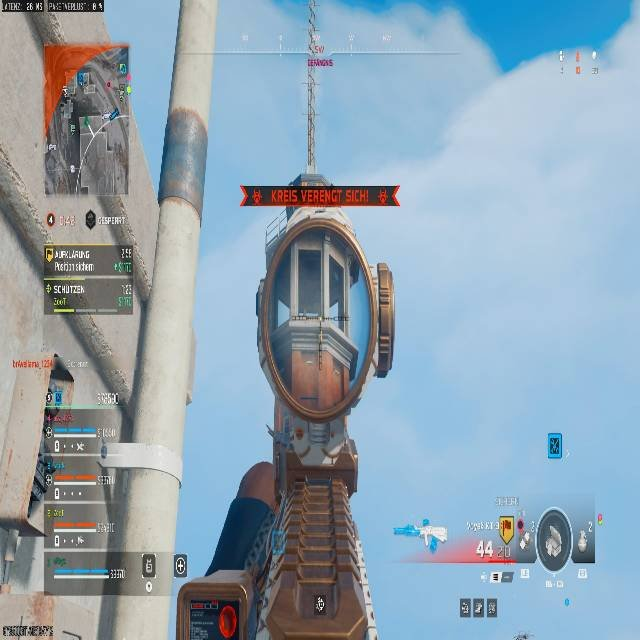head: (255, 198, 392, 420)
player: (190, 196, 411, 639)
